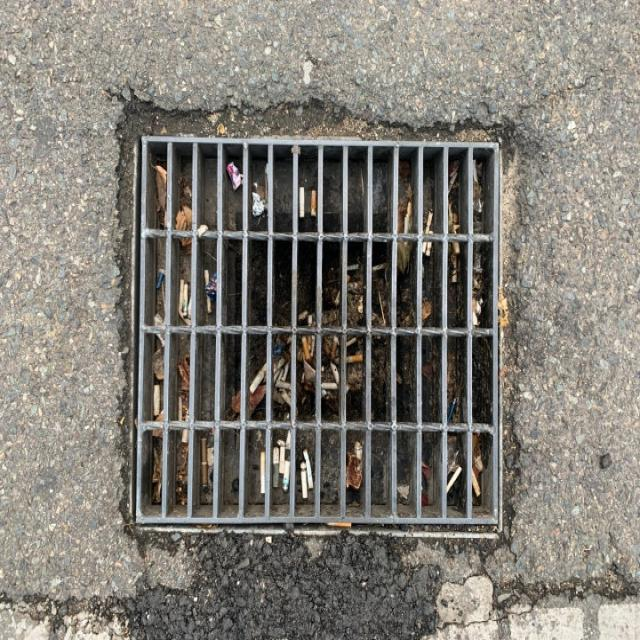drain_area: (218, 214, 393, 405), (295, 385, 420, 427)
drain_full: (137, 139, 500, 523)
